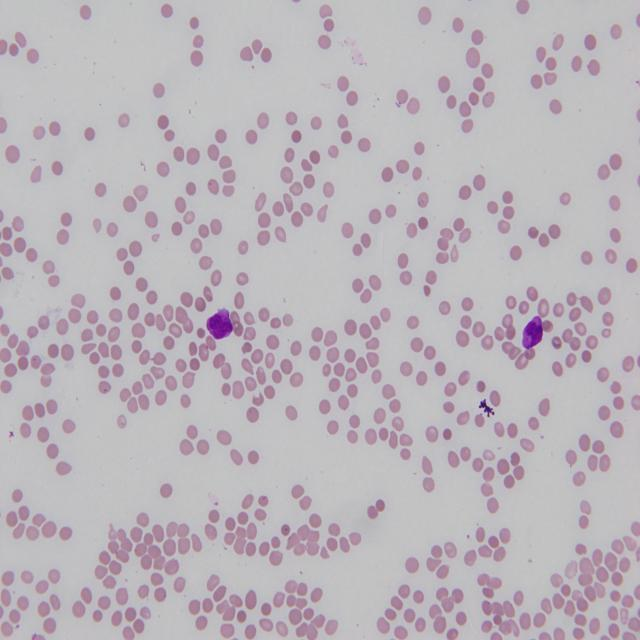cell: (206, 308, 232, 339), (522, 316, 542, 349)
